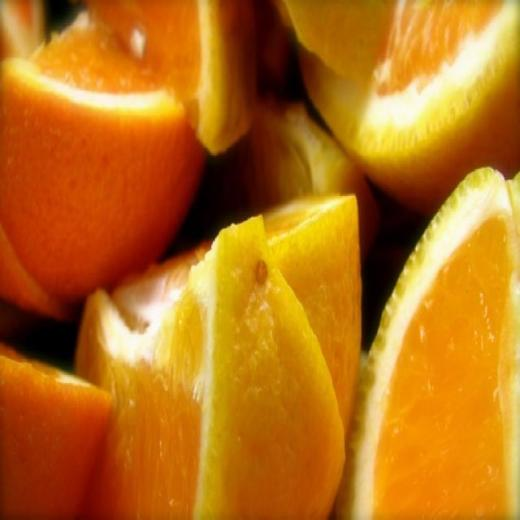Grape: (77, 214, 341, 519), (114, 196, 363, 430), (1, 10, 198, 303), (358, 163, 520, 507), (298, 0, 520, 197), (84, 0, 252, 148), (0, 338, 109, 518), (280, 0, 380, 73)
